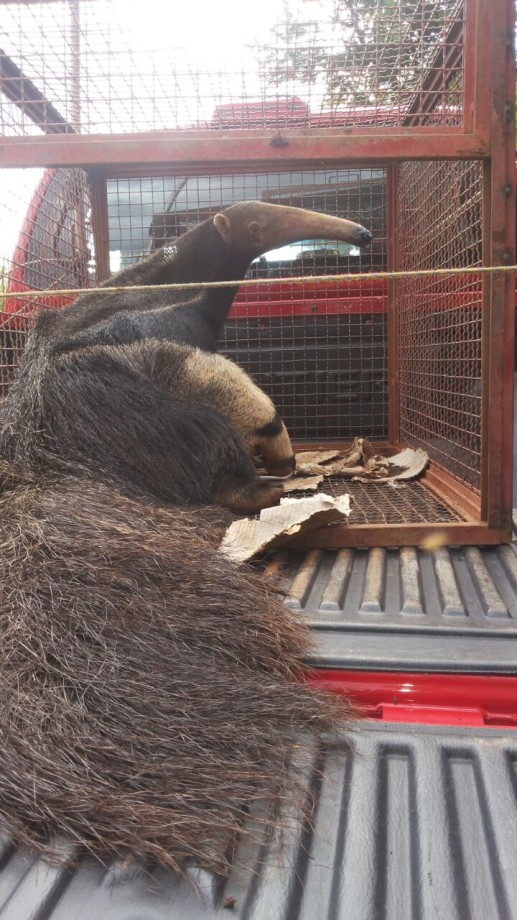TamanduaBandeira: (9, 196, 377, 857)
